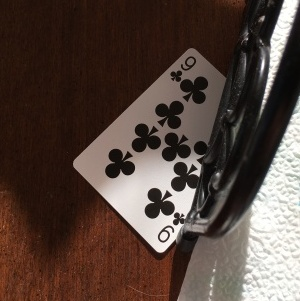card: (72, 46, 227, 255)
